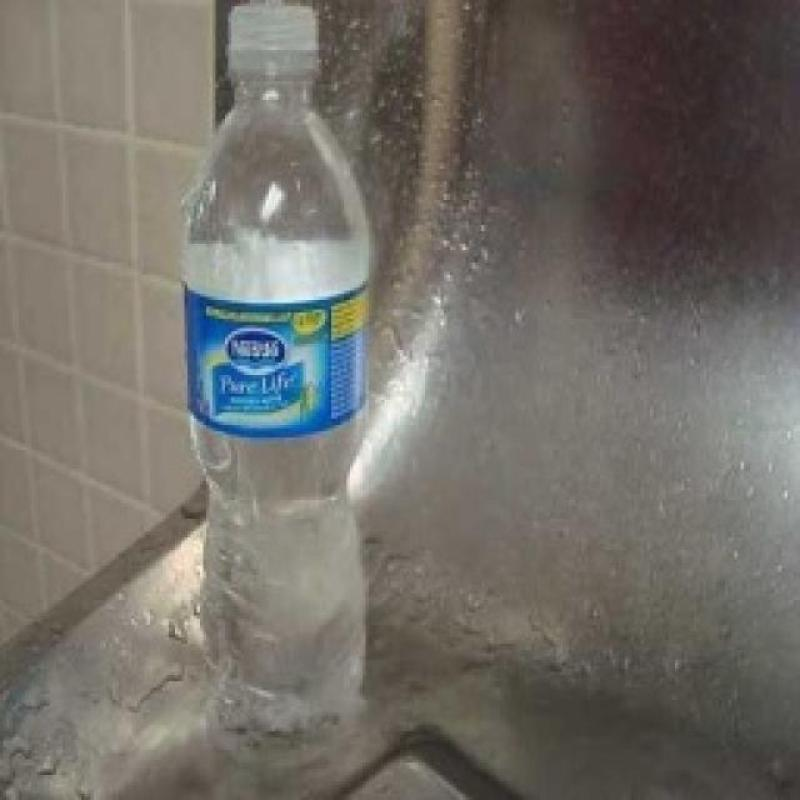botella: (173, 4, 371, 734)
